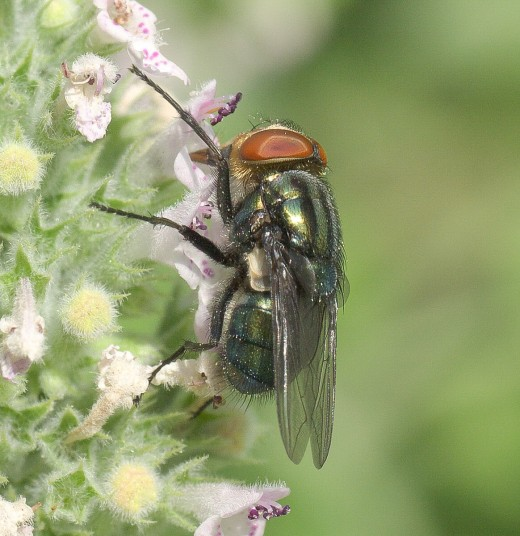green bottles flies: (82, 44, 371, 496)
